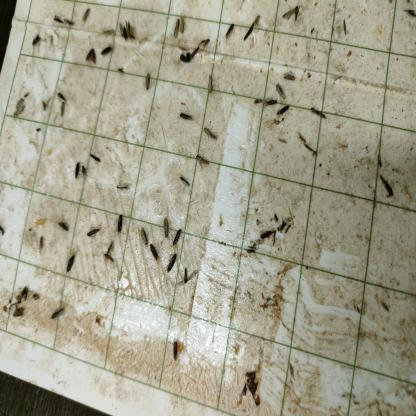prays_oleae: (239, 11, 262, 42), (200, 120, 223, 144), (136, 65, 153, 97), (178, 267, 198, 292), (79, 6, 99, 30), (280, 4, 302, 25), (377, 169, 392, 199), (174, 104, 194, 125), (111, 177, 135, 194), (164, 249, 180, 273), (67, 160, 83, 184), (8, 102, 27, 122), (64, 252, 78, 278), (124, 19, 138, 45), (223, 20, 237, 45), (198, 147, 212, 171), (309, 102, 325, 123), (88, 150, 106, 168), (204, 72, 218, 94), (48, 302, 66, 319), (100, 23, 116, 42), (115, 212, 127, 237), (57, 217, 71, 238), (170, 338, 182, 362), (275, 100, 291, 118), (261, 93, 277, 111), (29, 31, 44, 50), (34, 235, 48, 255), (275, 80, 288, 101), (99, 43, 114, 61), (137, 224, 149, 246), (54, 102, 68, 120), (169, 228, 183, 246), (282, 67, 296, 85), (160, 215, 170, 240), (172, 14, 181, 41), (17, 284, 31, 301), (199, 36, 213, 53), (9, 306, 28, 318), (148, 243, 160, 262), (85, 225, 101, 239), (177, 173, 190, 190), (66, 10, 74, 35), (189, 41, 200, 59), (179, 12, 187, 36), (81, 158, 88, 182), (53, 90, 66, 102), (116, 21, 124, 40)
